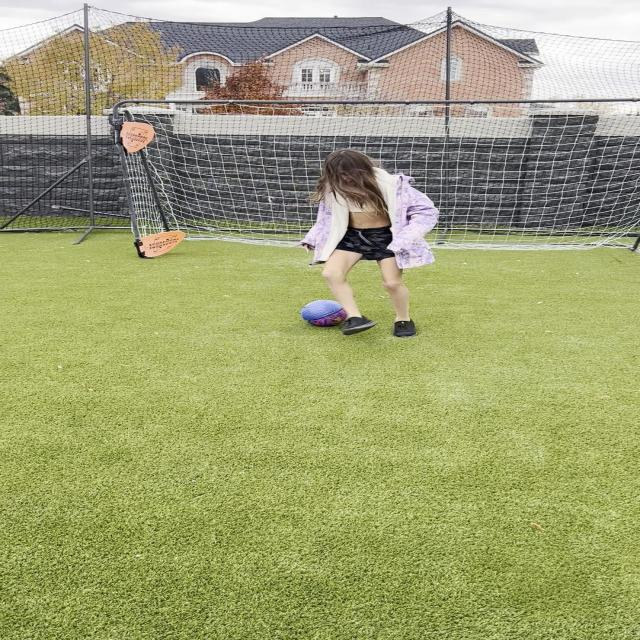Soccer Ball: (300, 299, 349, 327)
